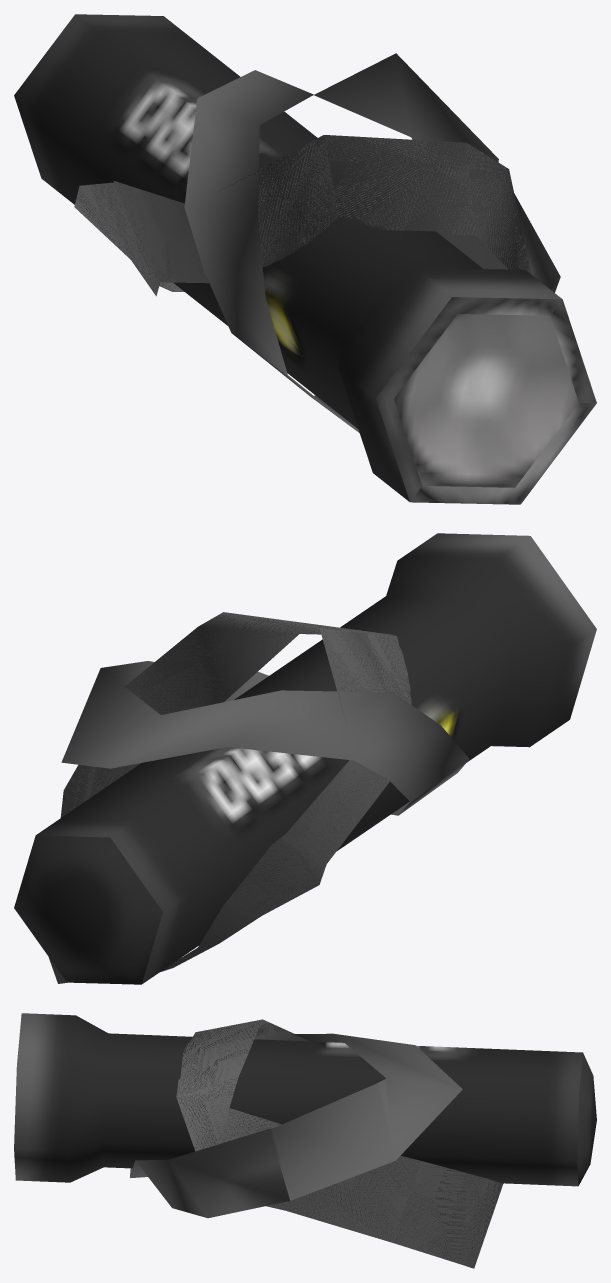
The model's file is TapedFlashlight.fbx.
The picture shows the model from 3 angles, top to bottom: view 1: azimuth 30°, elevation 25°; view 2: azimuth 150°, elevation 25°; view 3: azimuth 270°, elevation 25°; orthographic projection. The views are drawn at different scales.
Visible parts, largest first — view 1: HandTorch.X_HandTorch; view 2: HandTorch.X_HandTorch; view 3: HandTorch.X_HandTorch.
Boxes of the visible parts, x1,y1,x2,y2 form: HandTorch.X_HandTorch: (14, 14, 596, 504); HandTorch.X_HandTorch: (14, 533, 596, 984); HandTorch.X_HandTorch: (14, 1013, 596, 1268).
Bounding box in the file's own units: 0.066 × 0.0622 × 0.1589.
